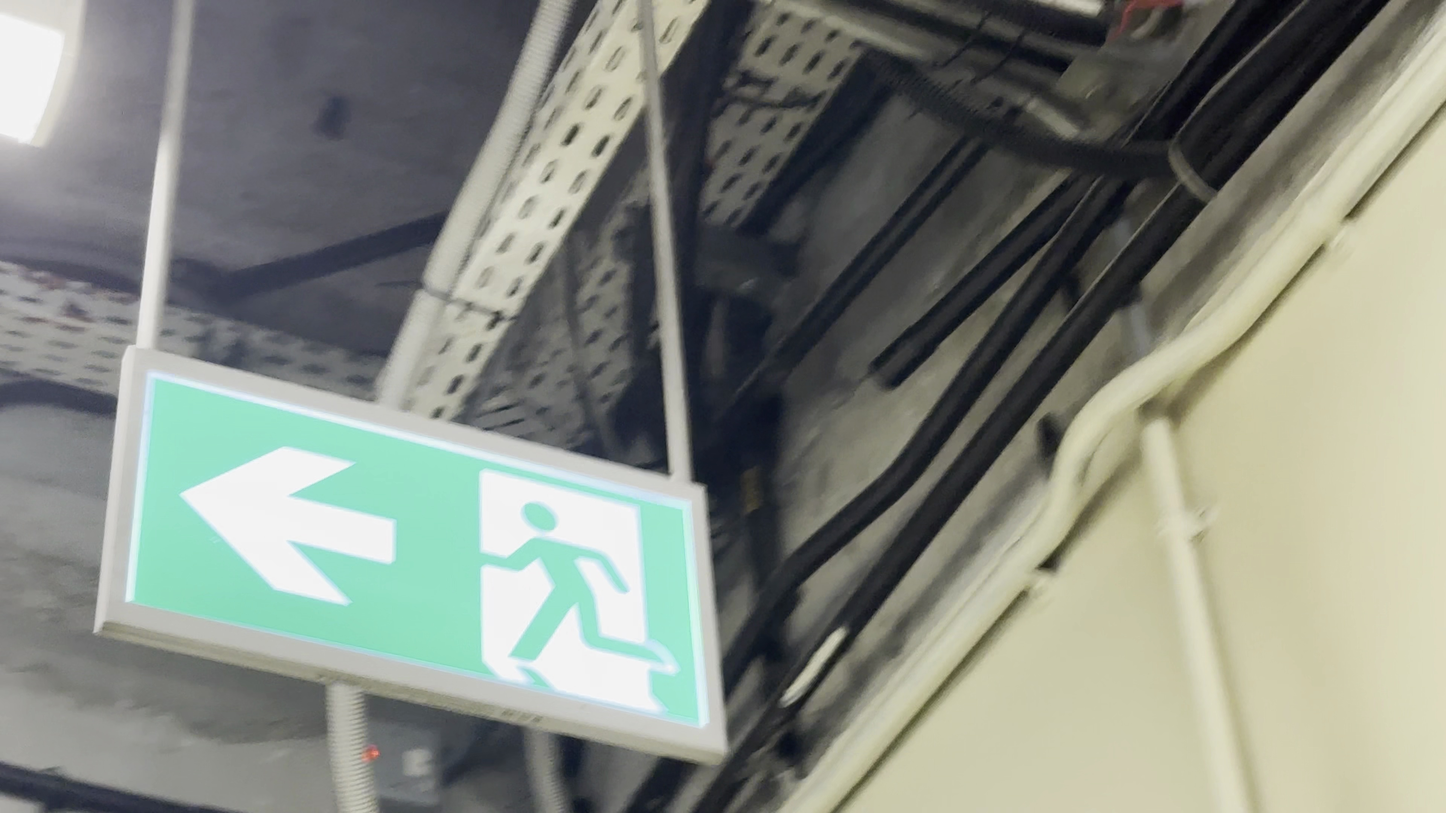emergency_exit: (92, 343, 732, 767)
